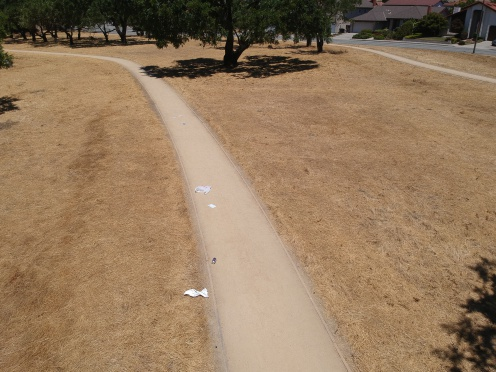can: (209, 255, 221, 264)
plastic bag: (190, 181, 216, 195)
